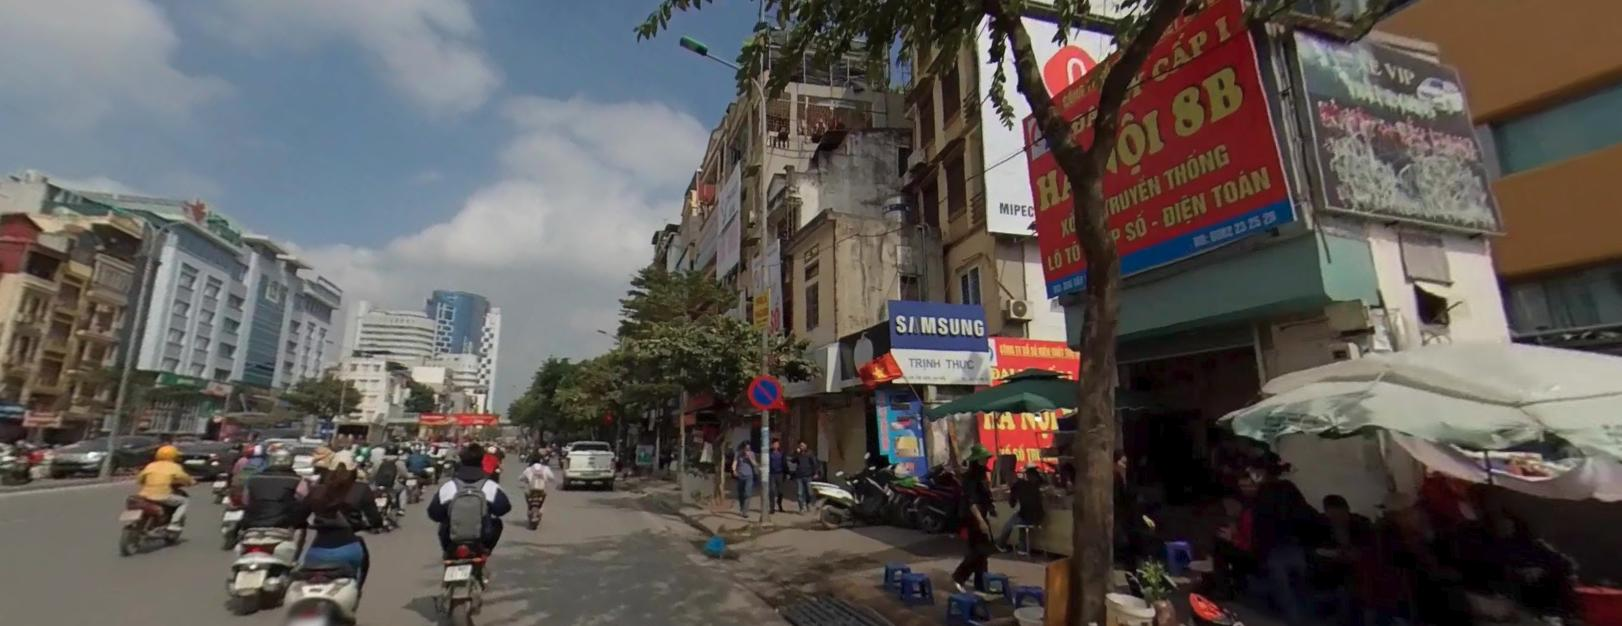Cam dung va do: (745, 372, 783, 408)
